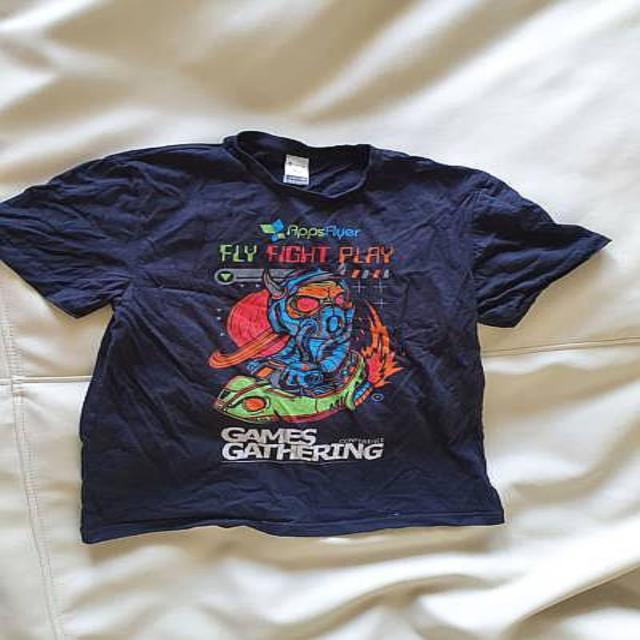T_SHIRT: (2, 124, 631, 550)
